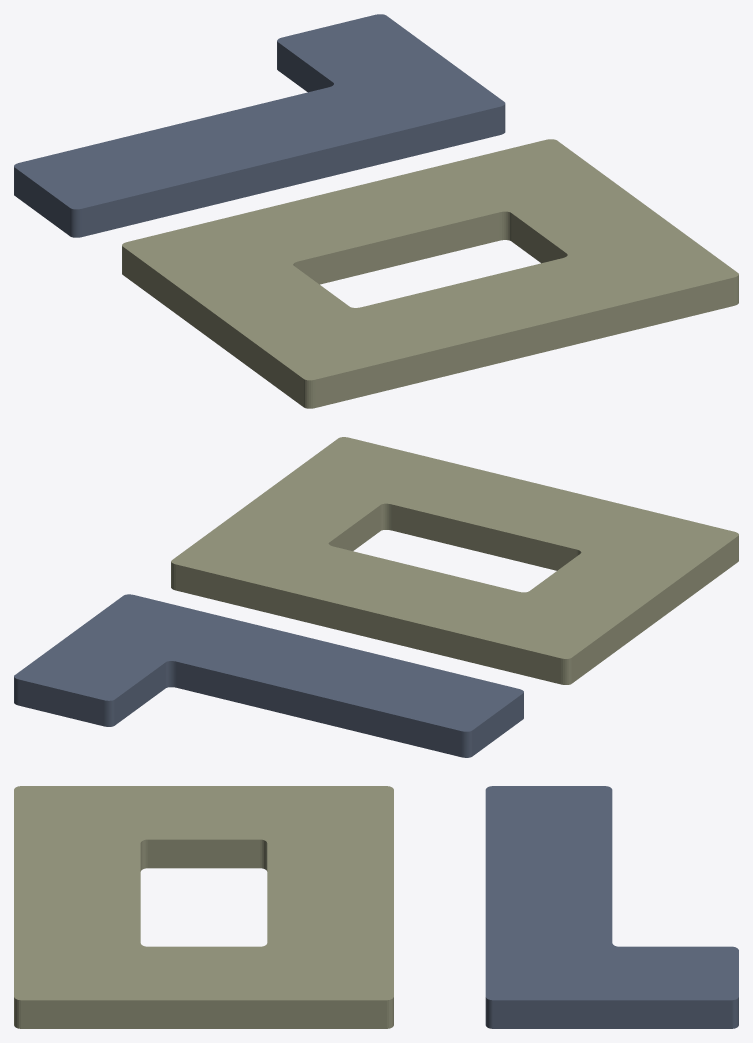
The model's file is models.glb.
3 views of the same model, one above another, from view 1: azimuth 30°, elevation 25°; view 2: azimuth 150°, elevation 25°; view 3: azimuth 270°, elevation 25° (orthographic). The views are drawn at different scales.
Visible parts, largest first — view 1: nmbr0, nmbr1; view 2: nmbr0, nmbr1; view 3: nmbr0, nmbr1.
Part boxes in pixels (bbox=[...]): nmbr0: bbox=[122, 139, 738, 408]; nmbr1: bbox=[14, 14, 505, 237]; nmbr0: bbox=[171, 437, 738, 684]; nmbr1: bbox=[14, 594, 523, 757]; nmbr0: bbox=[14, 786, 393, 1028]; nmbr1: bbox=[485, 786, 738, 1028].
Size of what is drawn, in the model's own units: 8 by 0.5 by 11.45.
2 materials, 2 textured.
